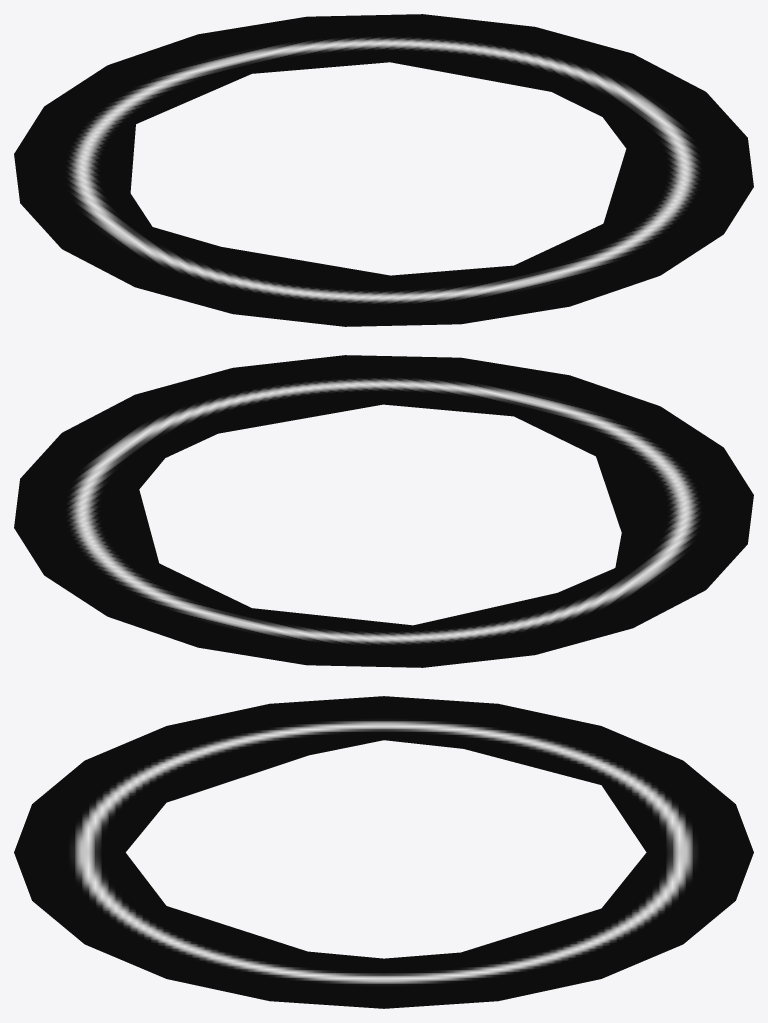
Rendered from PostR.fbx.
3 views of the same model, one above another, from view 1: azimuth 30°, elevation 25°; view 2: azimuth 150°, elevation 25°; view 3: azimuth 270°, elevation 25° (orthographic).
Visible parts, largest first — view 1: PostR; view 2: PostR; view 3: PostR.
Part boxes in pixels (left/top/right/bottom): PostR: left=14, top=14, right=753, bottom=326; PostR: left=14, top=355, right=753, bottom=667; PostR: left=14, top=696, right=753, bottom=1008.
Size of the model in its own units: 399 by 3.81e-06 by 399.
